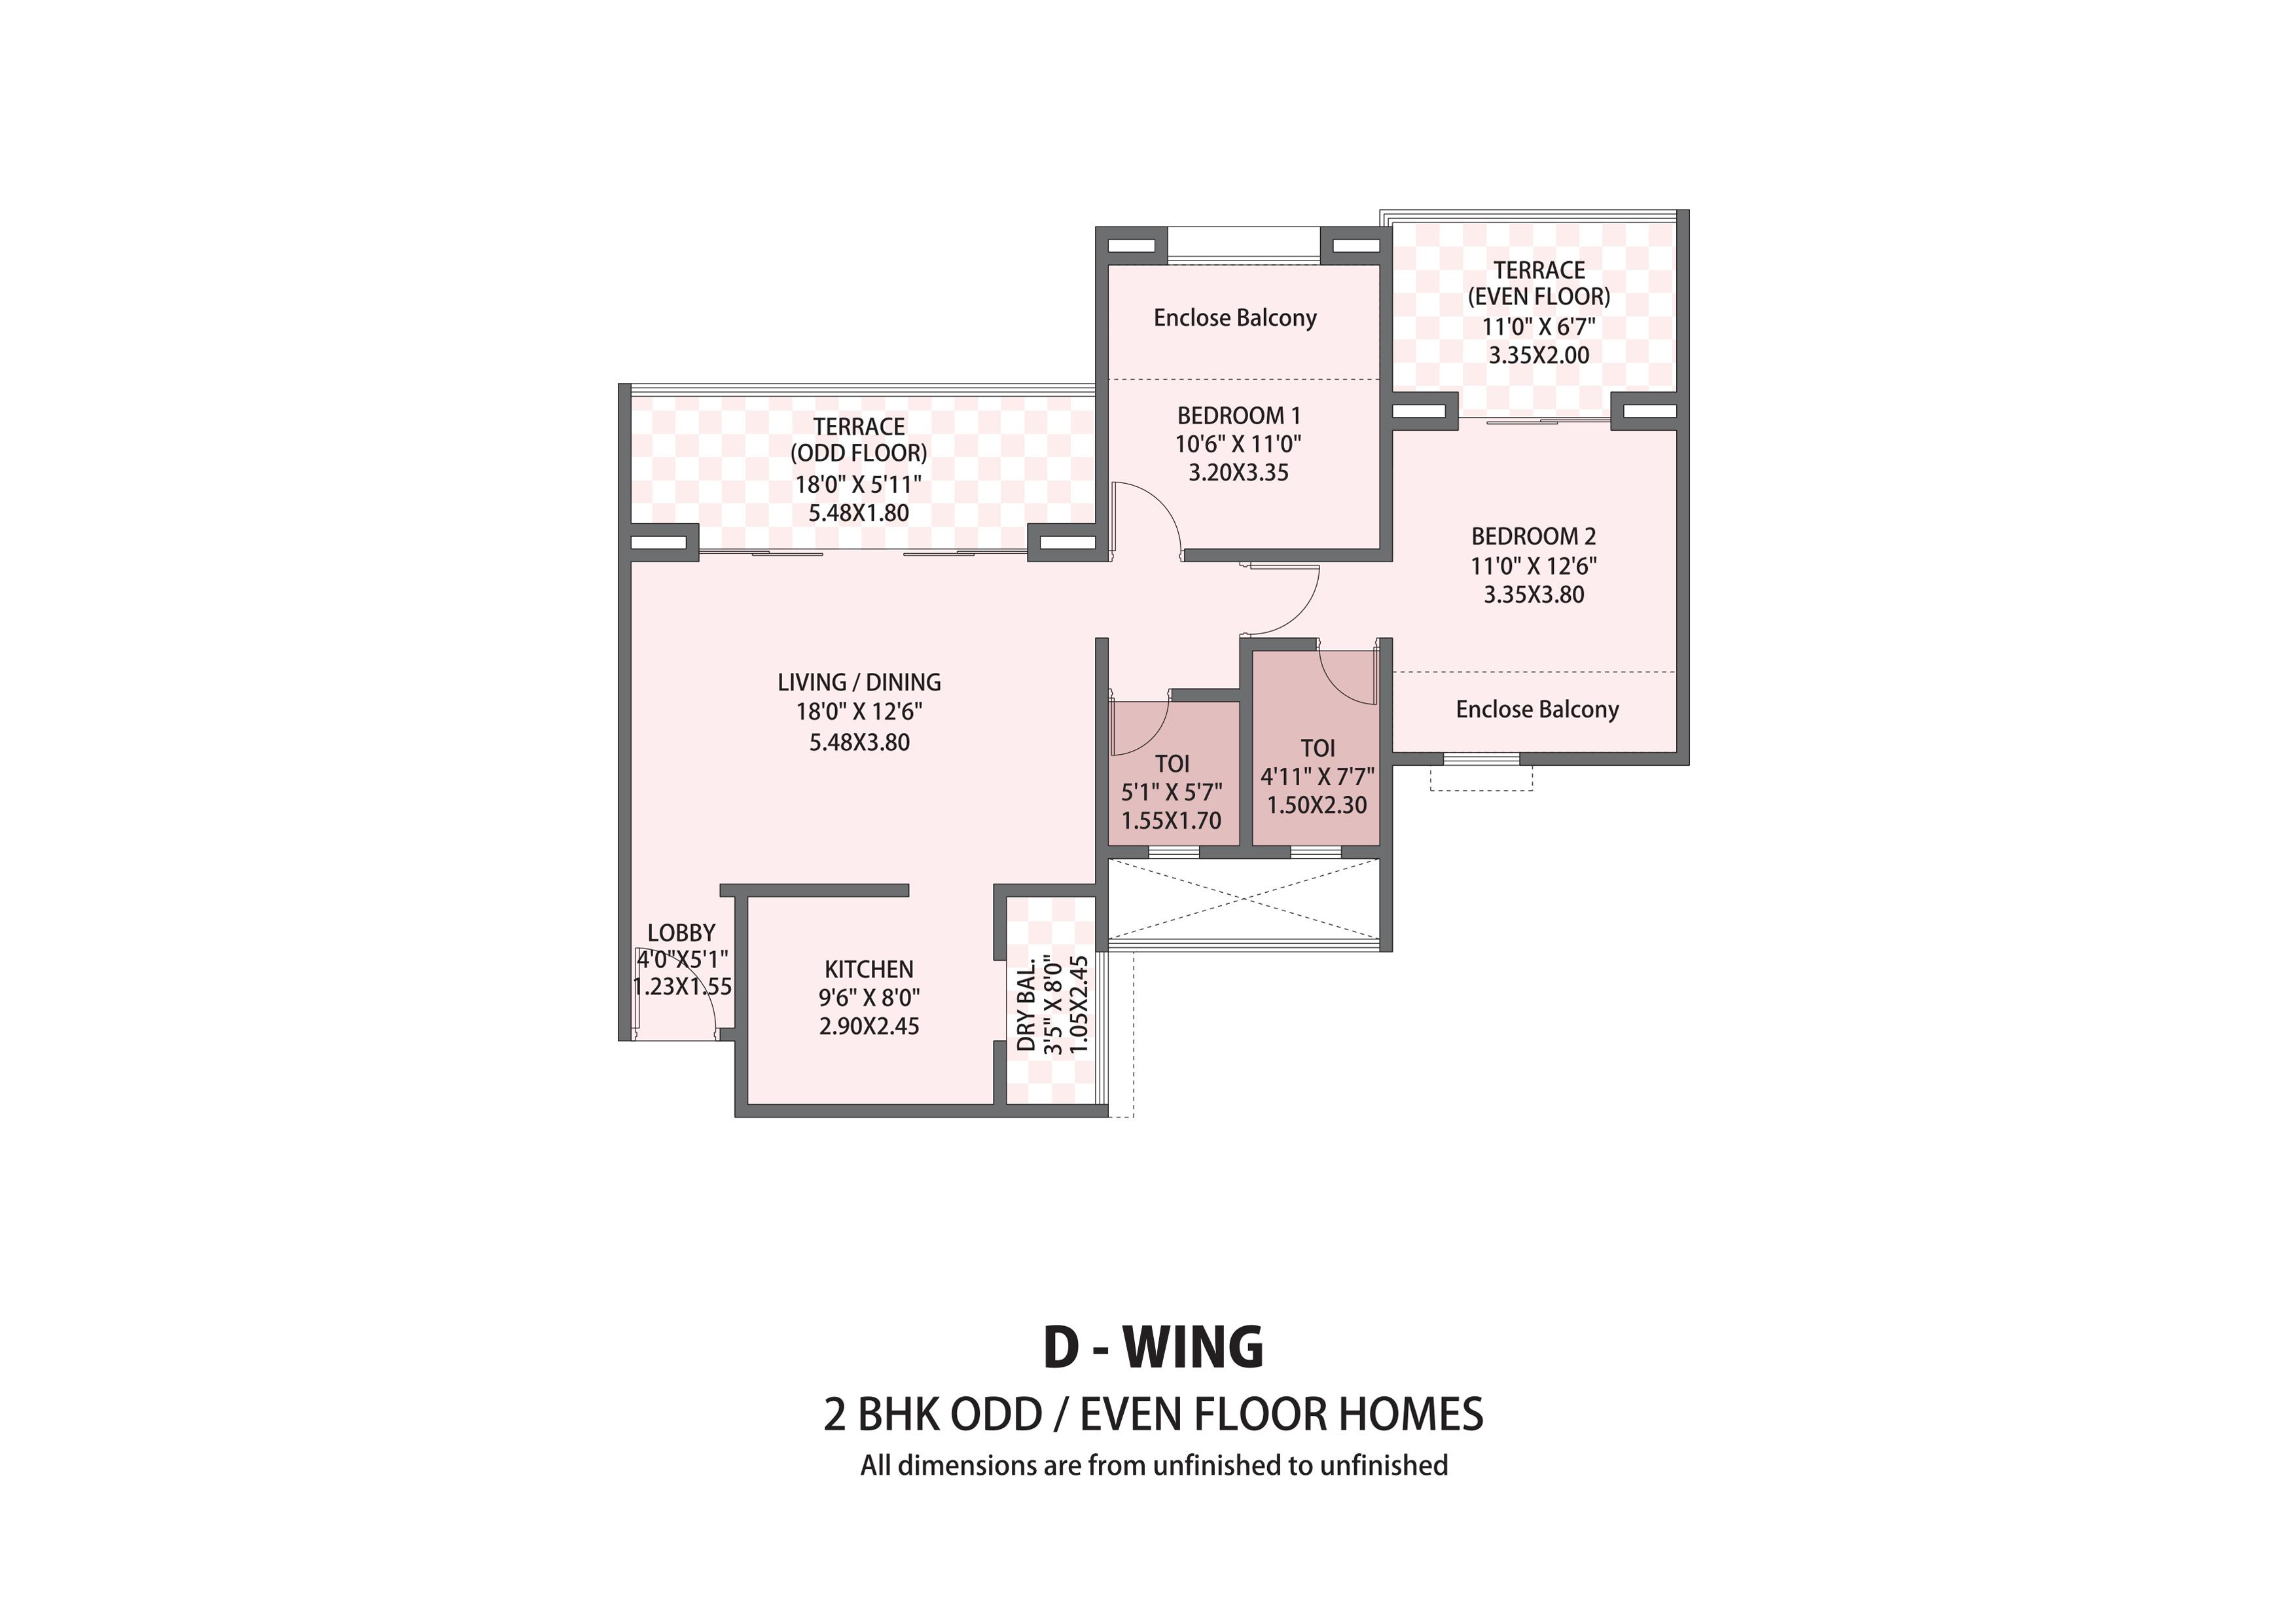window: (1165, 221, 1325, 269), (1440, 752, 1520, 768), (1147, 844, 1202, 861), (1288, 844, 1342, 861)
